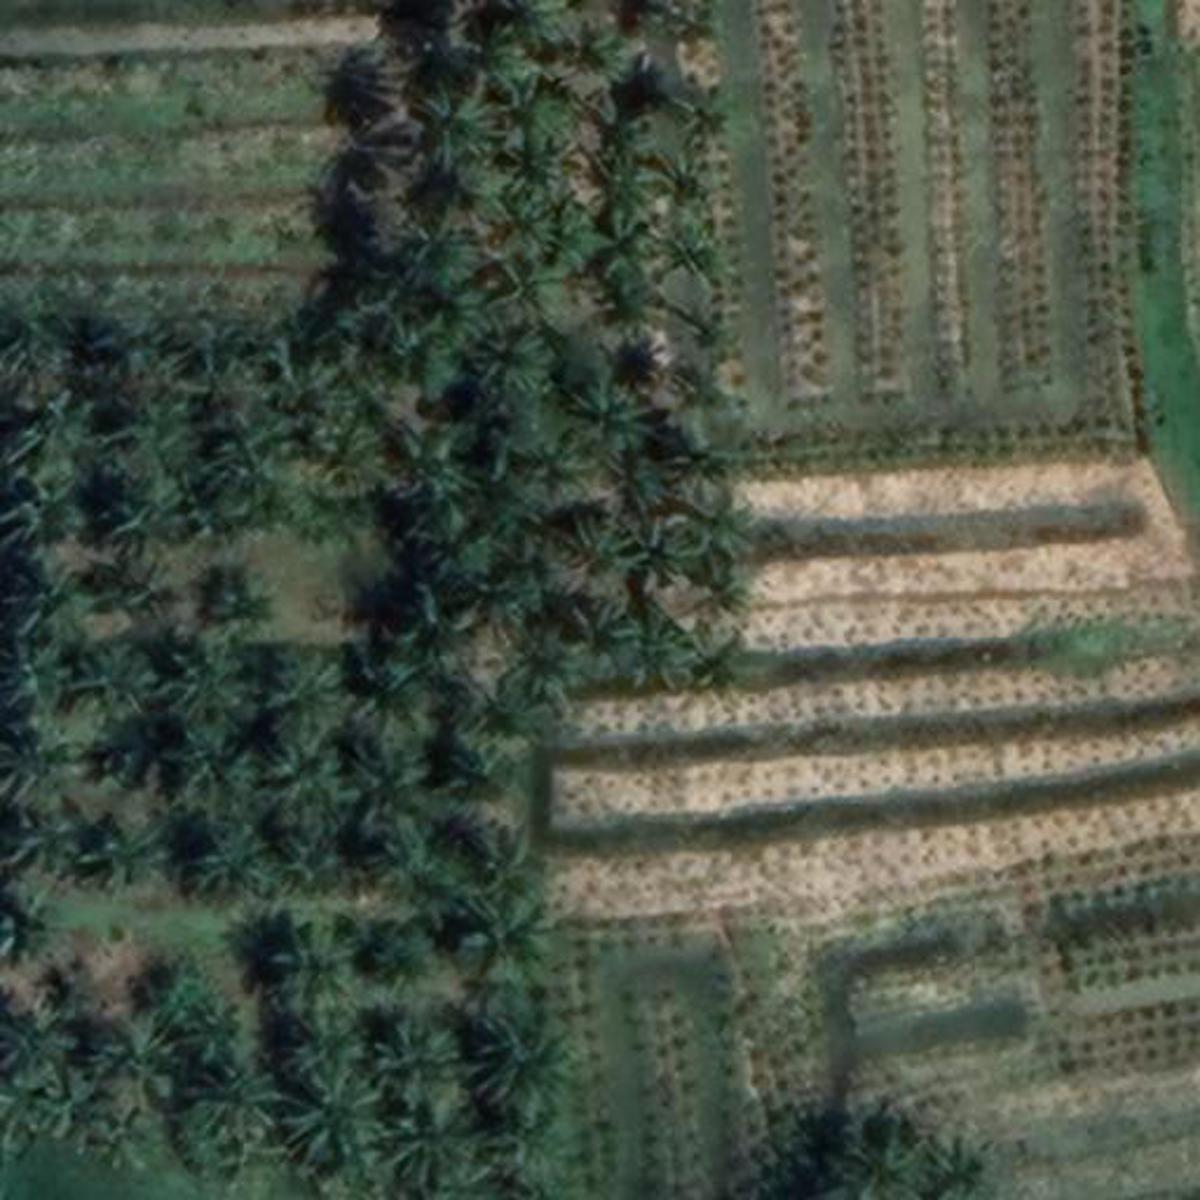coconut: (370, 581, 492, 696), (452, 881, 567, 1000), (451, 656, 557, 778), (180, 635, 297, 742), (260, 649, 365, 766), (274, 907, 382, 1010), (370, 815, 468, 925), (7, 712, 110, 815), (284, 789, 389, 890), (91, 1007, 208, 1096), (482, 1012, 588, 1110), (271, 344, 365, 454), (189, 1057, 292, 1155), (379, 1089, 480, 1188), (285, 462, 391, 555), (168, 300, 276, 391), (79, 810, 185, 897), (464, 808, 560, 902), (82, 546, 189, 632), (295, 1068, 391, 1162), (478, 522, 584, 607), (196, 810, 288, 904), (107, 475, 196, 571), (344, 742, 433, 836), (107, 405, 210, 487), (370, 1026, 473, 1108), (562, 377, 656, 464), (416, 79, 508, 168), (665, 562, 757, 649), (295, 1010, 389, 1096), (658, 492, 762, 569), (89, 300, 178, 389), (7, 998, 86, 1096), (562, 597, 651, 684), (588, 147, 673, 238), (16, 792, 100, 885), (391, 427, 473, 522), (11, 384, 105, 464), (73, 646, 159, 733), (557, 515, 646, 600), (499, 1096, 576, 1192), (451, 30, 555, 100), (391, 210, 480, 292), (370, 321, 466, 396), (7, 292, 89, 377), (649, 353, 752, 421), (382, 935, 473, 1012), (7, 462, 96, 538), (651, 220, 735, 300), (14, 625, 91, 712), (145, 970, 243, 1038), (637, 433, 733, 501), (189, 471, 285, 538), (11, 543, 91, 621), (201, 407, 284, 482), (820, 1132, 921, 1190), (485, 255, 567, 325), (166, 742, 260, 801), (525, 121, 600, 195), (485, 189, 567, 255), (485, 332, 557, 405), (0, 878, 65, 958), (79, 1116, 162, 1178), (205, 555, 269, 632), (667, 89, 747, 147), (921, 1141, 1007, 1192), (553, 21, 625, 79), (482, 2, 576, 44), (658, 154, 719, 201)
